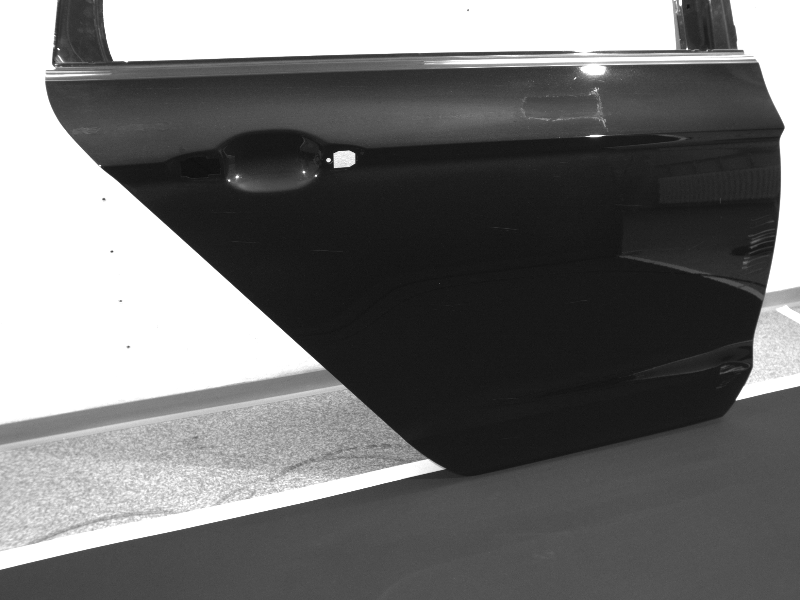scratch: (736, 215, 778, 292), (717, 362, 748, 389), (312, 247, 344, 254), (492, 225, 522, 232), (567, 298, 592, 305), (231, 240, 258, 245)
